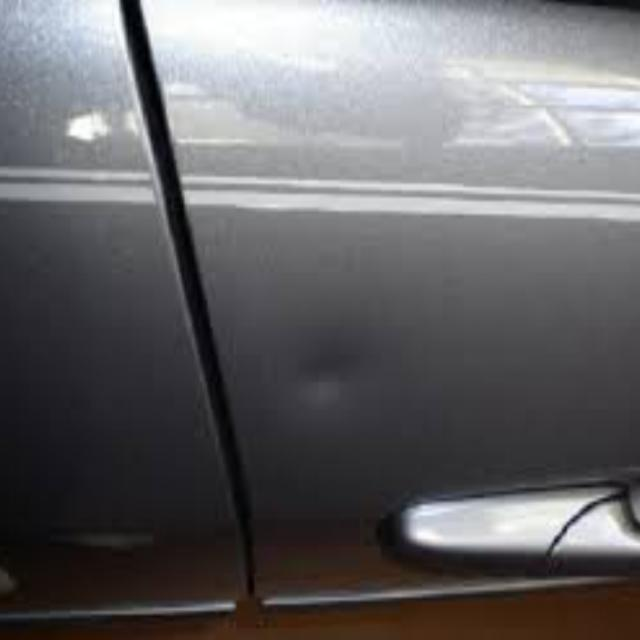dents: (280, 302, 370, 438)
